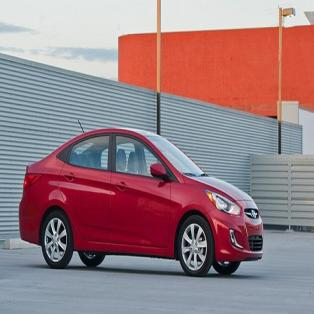Auto: (18, 118, 264, 276)
